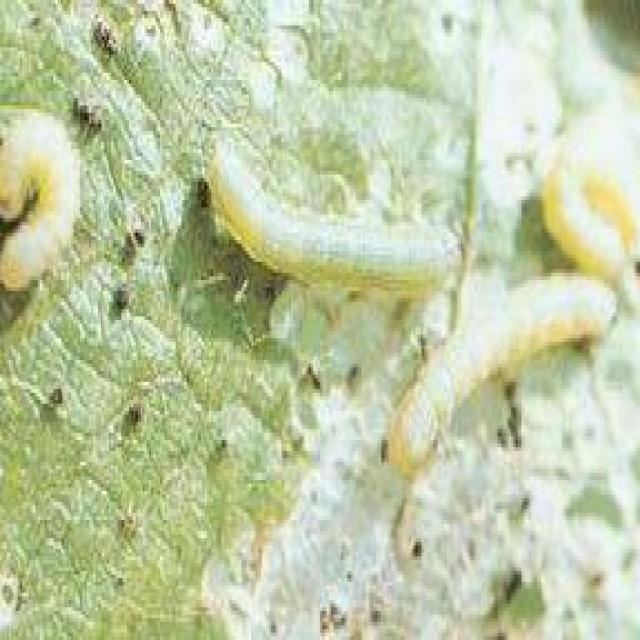BeetArmyWorm-Larva-: (377, 271, 621, 495), (193, 143, 470, 306)
